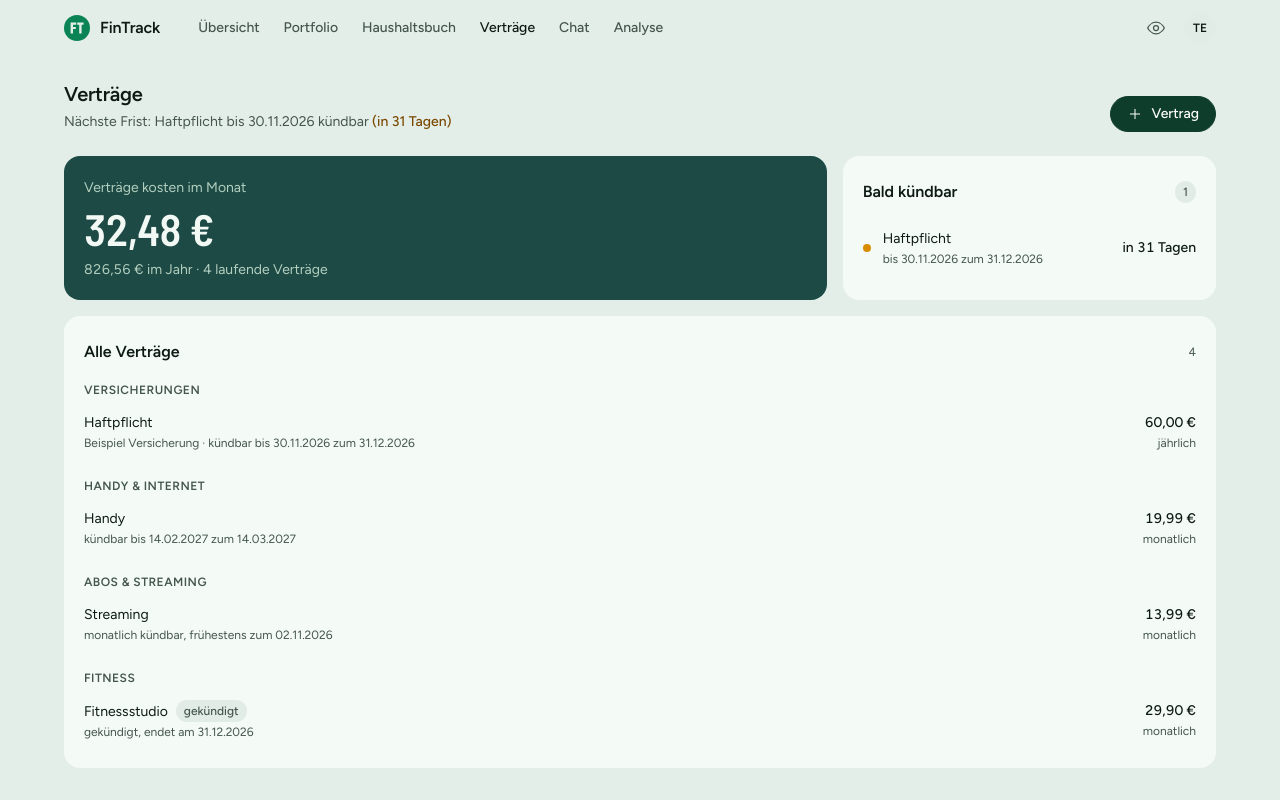
Test: Verträge › löscht erst nach Rückfrage
Click the button "Handy" at (105,518), box x1=84 y1=500 x2=1196 y2=556
(page scrolled)
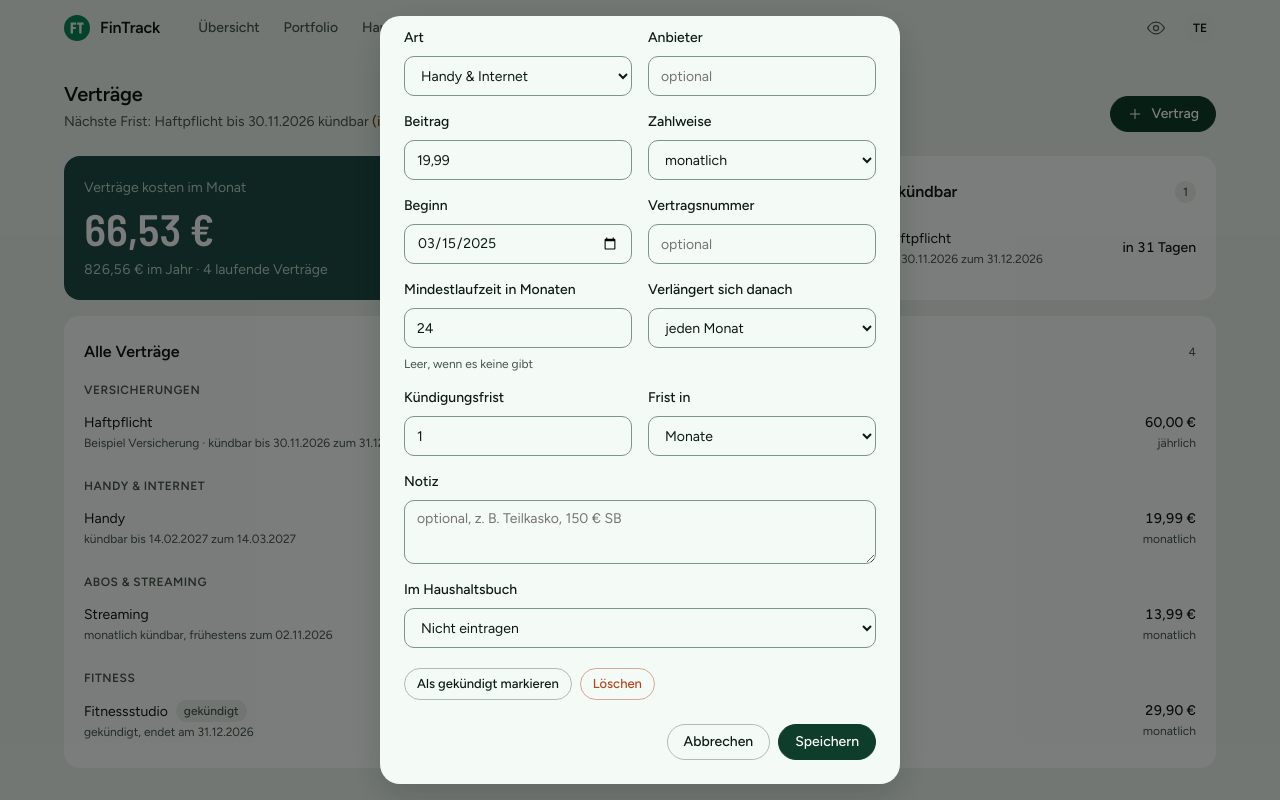
Click the button "Löschen" at (617,684), box x1=580 y1=668 x2=655 y2=700
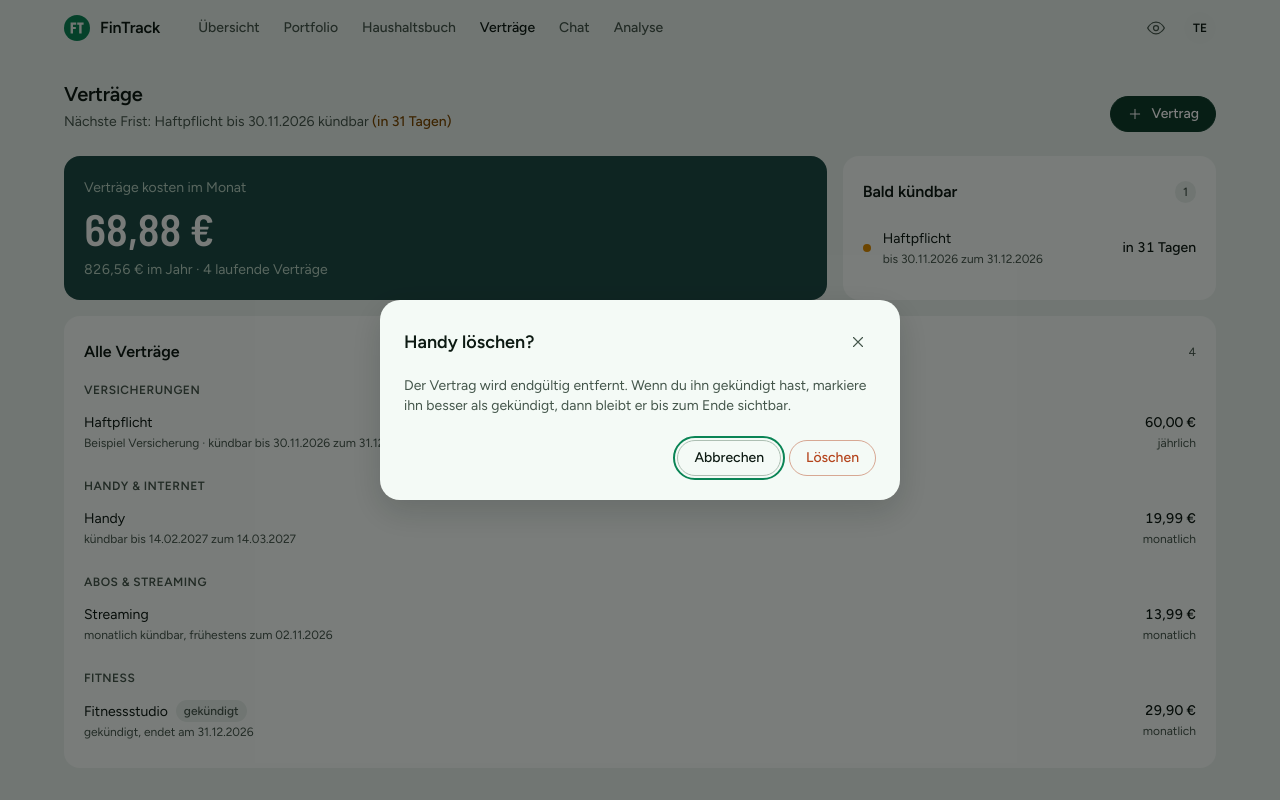
Click the button "Löschen" at (832,458), box x1=789 y1=440 x2=876 y2=476
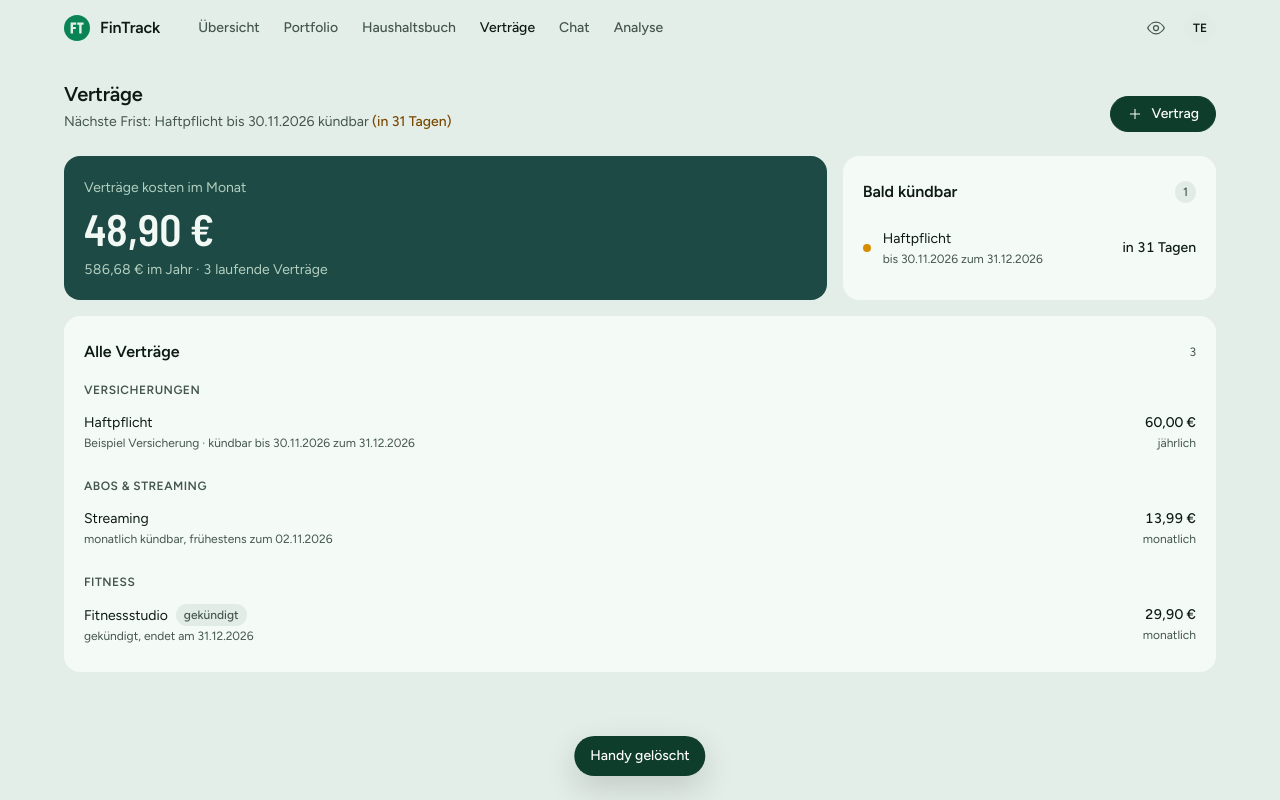
Result: the text "Handy gelöscht" is shown at x1=574 y1=736 x2=706 y2=776
